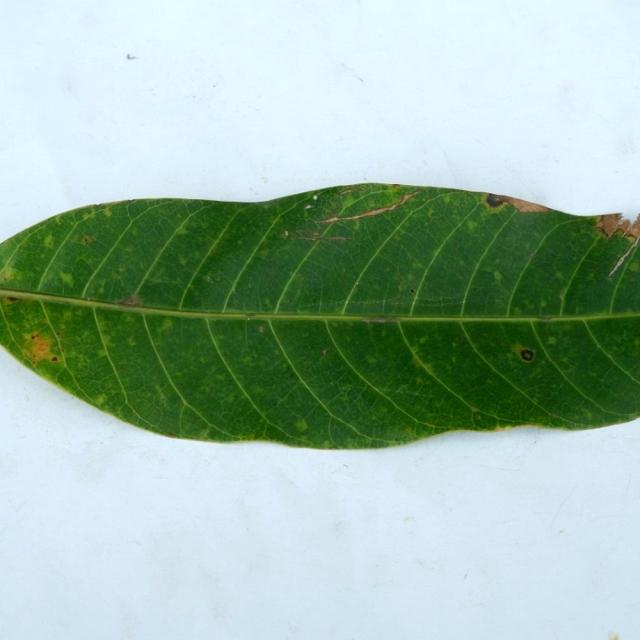Mango: (0, 184, 639, 448)
Powdery_Mildew: (316, 378, 379, 430), (131, 276, 208, 309), (60, 203, 116, 230), (466, 268, 502, 304), (469, 408, 499, 429), (1, 265, 24, 283), (117, 294, 144, 308), (488, 264, 506, 282), (338, 185, 367, 195), (59, 271, 74, 288), (159, 317, 174, 332), (557, 285, 570, 300), (199, 427, 215, 439), (295, 418, 309, 431), (257, 248, 271, 260), (623, 232, 637, 244), (174, 226, 190, 236), (2, 296, 22, 304), (94, 393, 107, 405), (44, 234, 55, 248), (411, 357, 425, 368), (442, 194, 456, 205), (589, 215, 603, 226), (466, 220, 479, 231), (110, 269, 123, 280), (554, 270, 565, 282), (405, 272, 416, 284), (96, 281, 106, 294), (96, 348, 109, 358), (177, 255, 188, 266), (396, 281, 406, 293), (537, 316, 556, 322), (82, 235, 96, 243), (126, 337, 137, 347), (545, 337, 557, 346), (511, 306, 523, 315), (365, 355, 377, 364), (404, 425, 416, 434), (262, 296, 270, 309), (550, 412, 563, 420), (627, 262, 637, 272), (586, 272, 596, 281), (632, 261, 640, 272), (104, 208, 113, 217), (212, 273, 222, 281), (323, 439, 334, 446), (539, 300, 548, 308), (415, 376, 424, 384), (311, 295, 318, 304), (245, 314, 255, 320), (419, 337, 427, 344), (527, 252, 535, 259), (471, 407, 480, 413), (30, 334, 38, 340), (259, 326, 265, 333), (206, 276, 212, 283), (51, 356, 58, 362), (283, 230, 289, 237), (169, 431, 176, 437), (636, 338, 640, 347), (274, 350, 280, 356), (391, 183, 400, 187), (322, 349, 327, 356), (32, 355, 37, 361), (97, 203, 104, 207), (4, 276, 9, 281), (56, 332, 61, 336), (411, 289, 415, 294)
